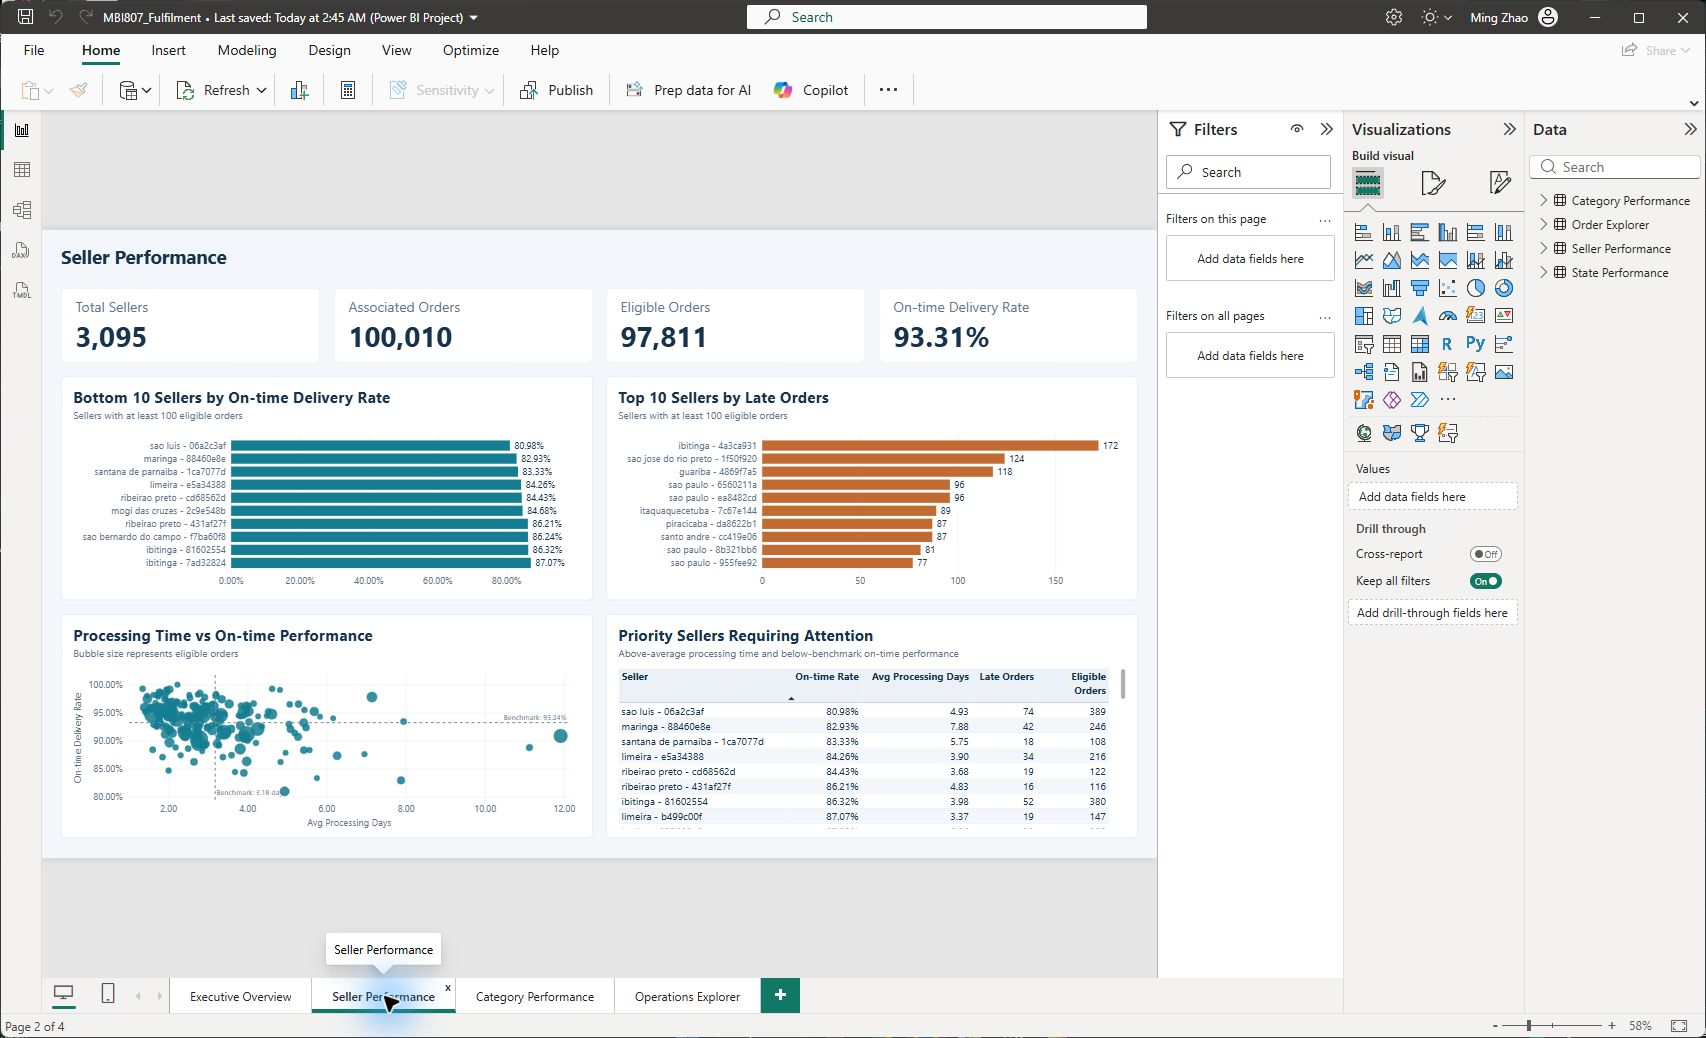

This screenshot's page, from the dashboard's own definition file:
{"tool":"powerbi","page":{"name":"Seller Performance","canvas":[1920,1080],"ordinal":1},"visuals":[{"type":"cardVisual","fields":{"Data":["Seller Performance.Total Sellers"]},"box":[32,100,446,128],"z":0},{"type":"cardVisual","fields":{"Data":["Seller Performance.Associated Orders"]},"box":[502,100,446,128],"z":1000},{"type":"cardVisual","fields":{"Data":["Seller Performance.Eligible Seller Orders"]},"box":[972,100,446,128],"z":2000},{"type":"cardVisual","fields":{"Data":["Seller Performance.Seller On-time Delivery Rate"]},"box":[1442,100,446,128],"z":3000},{"type":"clusteredBarChart","title":"Bottom 10 Sellers by On-time Delivery Rate","fields":{"Category":["Seller Performance.Seller Label"],"Y":["Seller Performance.Seller On-time Rate"]},"box":[32,252,916,386],"z":4000},{"type":"clusteredBarChart","title":"Top 10 Sellers by Late Orders","fields":{"Category":["Seller Performance.Seller Label"],"Y":["Seller Performance.Seller Late Orders"]},"box":[972,252,916,386],"z":5000},{"type":"scatterChart","title":"Processing Time vs On-time Performance","fields":{"Category":["Seller Performance.Seller Label"],"Size":["Seller Performance.Eligible Seller Orders"],"X":["Seller Performance.Avg Seller Processing Days"],"Y":["Seller Performance.Seller On-time Rate"]},"box":[32,662,916,386],"z":6000},{"type":"tableEx","title":"Priority Sellers Requiring Attention","fields":{"Values":["Seller Performance.Seller Label","Seller Performance.Seller On-time Rate","Seller Performance.Avg Seller Processing Days","Seller Performance.Seller Late Orders","Seller Performance.Eligible Seller Orders"]},"box":[972,662,916,386],"z":7000},{"type":"textbox","box":[32,24,1720,56],"z":9000}]}

Visuals, with their boxes on the page's 1920x1080 design canvas (x1, y1, x2, y2). These are canvas units, not pixel positions in the 1706x1038 screenshot, which may show the page scaled, cropped or inside an application window:
cardVisual - Seller Performance.Total Sellers: 32 100 478 228
cardVisual - Seller Performance.Associated Orders: 502 100 948 228
cardVisual - Seller Performance.Eligible Seller Orders: 972 100 1418 228
cardVisual - Seller Performance.Seller On-time Delivery Rate: 1442 100 1888 228
"Bottom 10 Sellers by On-time Delivery Rate" clusteredBarChart: 32 252 948 638
"Top 10 Sellers by Late Orders" clusteredBarChart: 972 252 1888 638
"Processing Time vs On-time Performance" scatterChart: 32 662 948 1048
"Priority Sellers Requiring Attention" tableEx: 972 662 1888 1048
textbox: 32 24 1752 80
